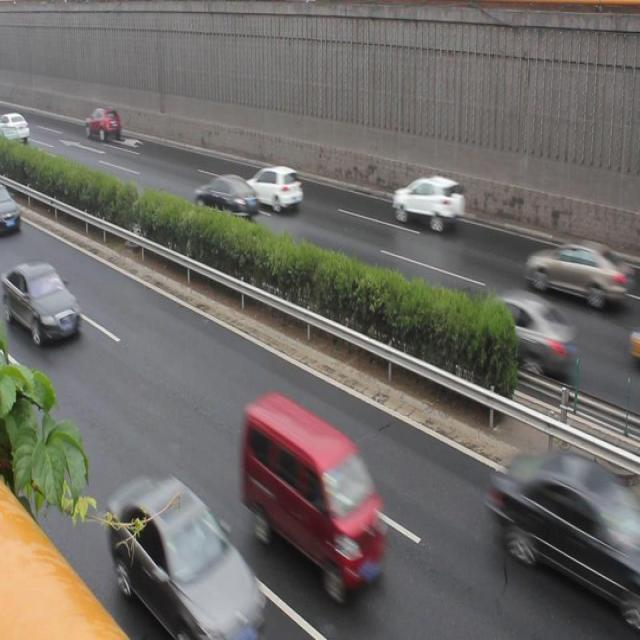car: (107, 477, 267, 640), (492, 446, 640, 600), (471, 282, 574, 379), (10, 255, 86, 347), (524, 233, 617, 306), (391, 174, 465, 234), (196, 173, 258, 224), (246, 165, 307, 214), (87, 106, 124, 142), (1, 186, 27, 236)
truck: (241, 394, 390, 590)
